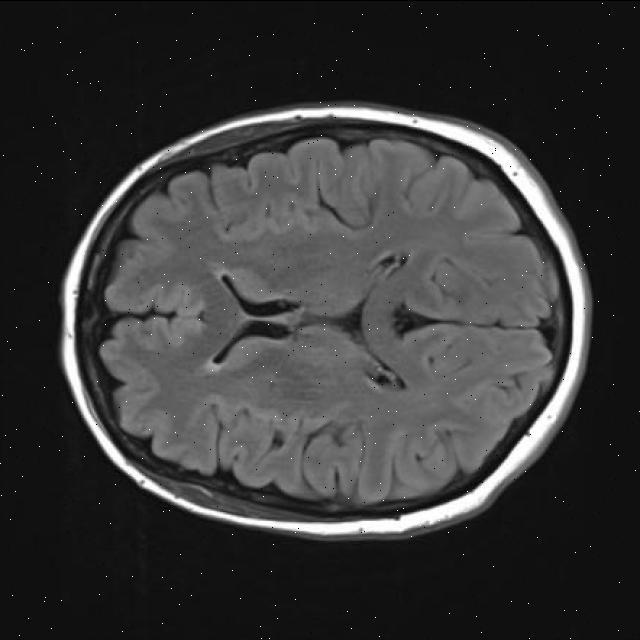No_Tumor: (61, 105, 591, 538)
